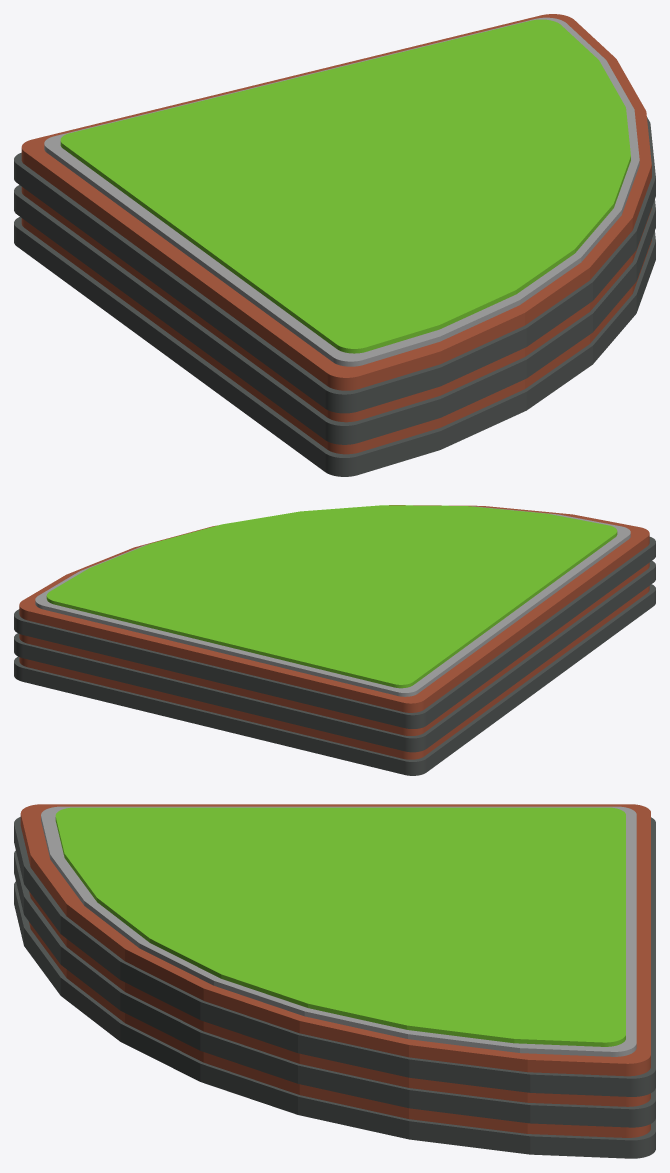
Rendered from Realink_Building.glb.
3 renders of one model, top to bottom at view 1: azimuth 30°, elevation 25°; view 2: azimuth 150°, elevation 25°; view 3: azimuth 270°, elevation 25°, orthographic. The views are drawn at different scales.
Parts seen in each view (by area): view 1: Circle.005, Circle, Circle.003, Circle.001, Circle.002, Circle.004; view 2: Circle.005, Circle, Circle.001, Circle.003, Circle.002, Circle.004; view 3: Circle.005, Circle, Circle.003, Circle.002, Circle.001, Circle.004.
Part boxes in pixels (bbox=[...]): Circle.005: bbox=[60, 19, 630, 353]; Circle: bbox=[21, 14, 651, 454]; Circle.003: bbox=[14, 117, 655, 413]; Circle.001: bbox=[14, 217, 655, 476]; Circle.002: bbox=[14, 185, 655, 444]; Circle.004: bbox=[44, 17, 639, 366]; Circle.005: bbox=[46, 505, 617, 688]; Circle: bbox=[19, 505, 649, 759]; Circle.001: bbox=[14, 584, 655, 775]; Circle.003: bbox=[14, 537, 655, 728]; Circle.002: bbox=[14, 561, 655, 752]; Circle.004: bbox=[35, 506, 630, 696]; Circle.005: bbox=[55, 807, 625, 1046]; Circle: bbox=[20, 804, 650, 1137]; Circle.003: bbox=[14, 817, 655, 1096]; Circle.002: bbox=[14, 850, 655, 1127]; Circle.001: bbox=[14, 881, 655, 1158]; Circle.004: bbox=[41, 806, 636, 1056].
Bounding box in the file's own units: 1.05 × 0.1884 × 1.08.
